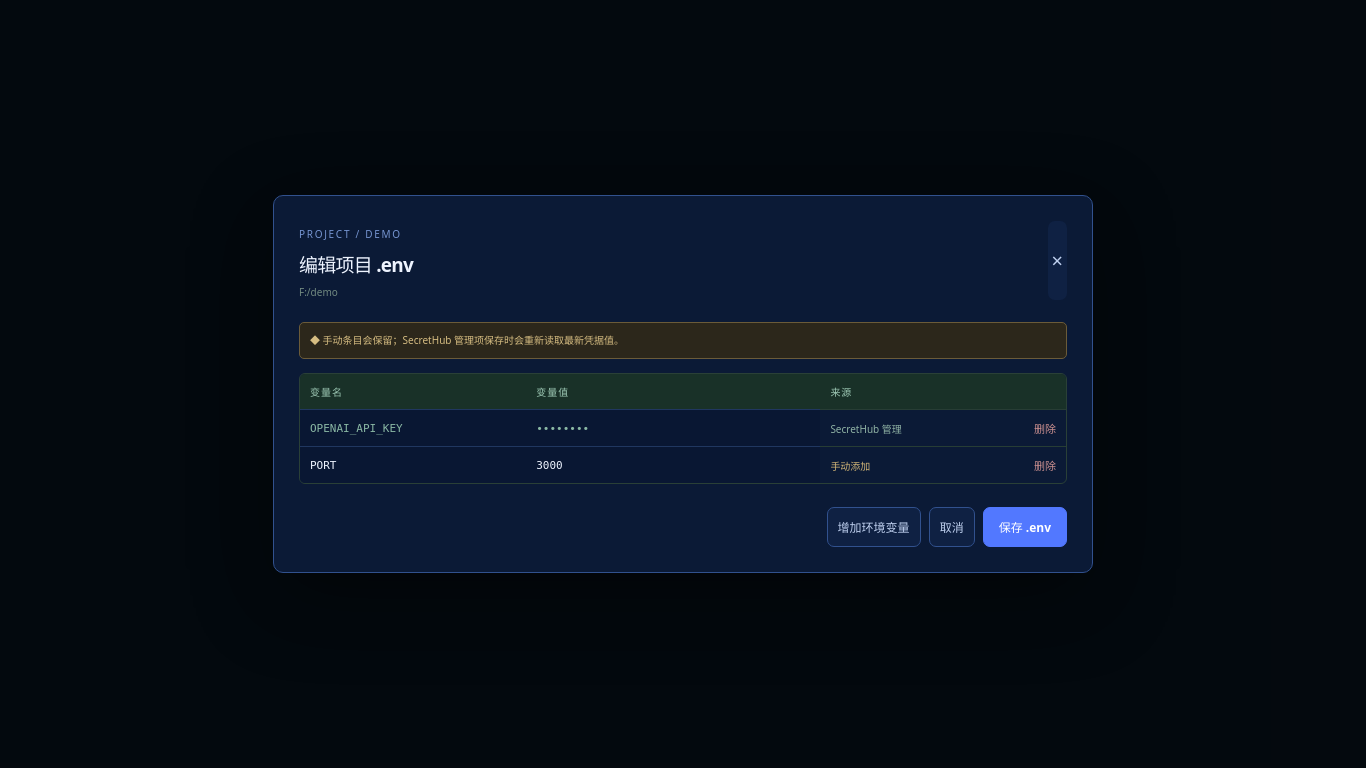
Test: SecretHub desktop shell › keeps managed env rows masked while allowing manual rows to be edited
Expected: the text "◆ 手动条目会保留；SecretHub 管理项保存时会重新读取最新凭据值。" is shown, [299,322,1067,359]
What coordinates should you click on to do the following:
click the button "增加环境变量"
I would click on:
 (874, 527)
Its box is [827,507,921,547].
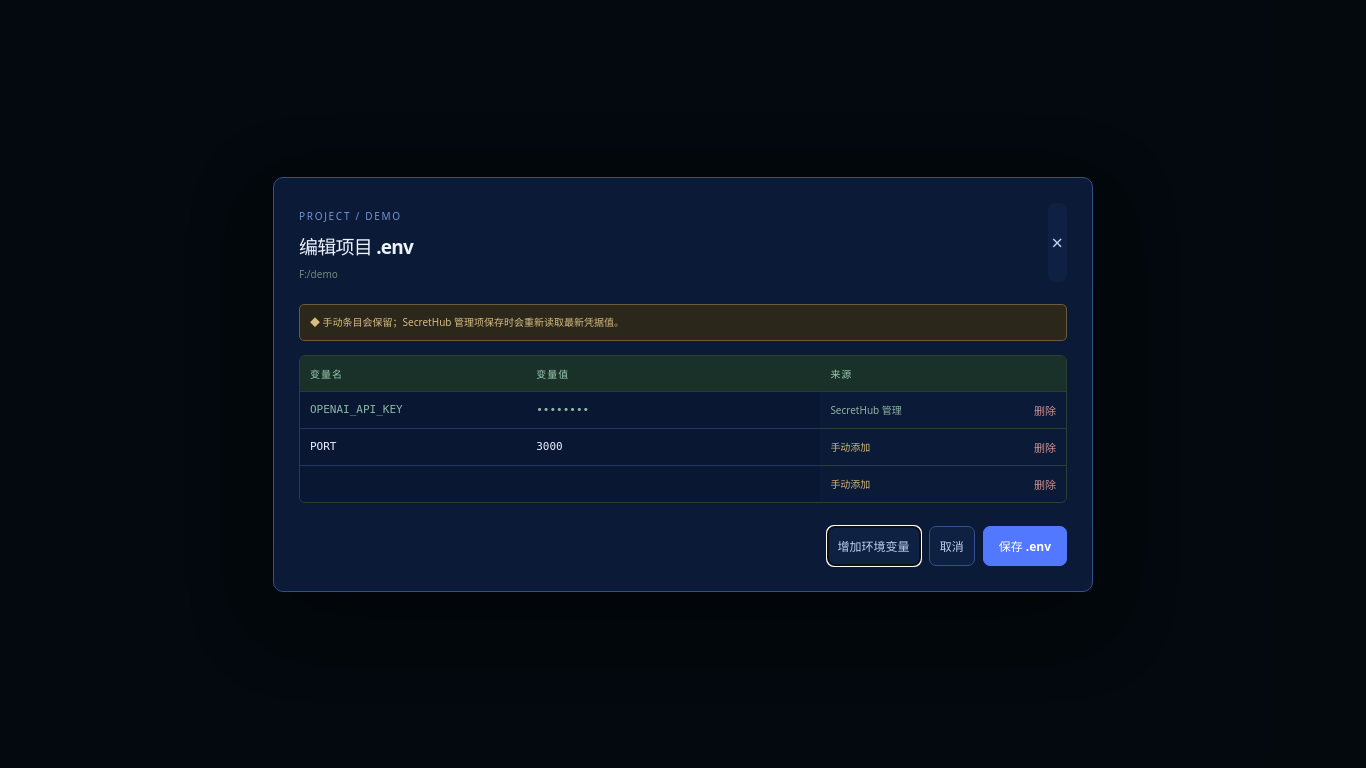
Expected: the number of fields is 6, [300,390,526,428]; [526,390,820,428]; [300,428,526,464]; [526,428,820,464]; [300,464,526,502]; [526,464,820,502]
